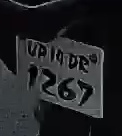1: (26, 65, 39, 89), (47, 45, 57, 63)
2: (40, 66, 59, 100)
4: (55, 47, 64, 66)
6: (57, 76, 78, 105)
7: (75, 78, 94, 112)
D: (67, 52, 78, 72)
P: (36, 42, 49, 60)
R: (78, 55, 90, 76)
U: (24, 41, 37, 59)
